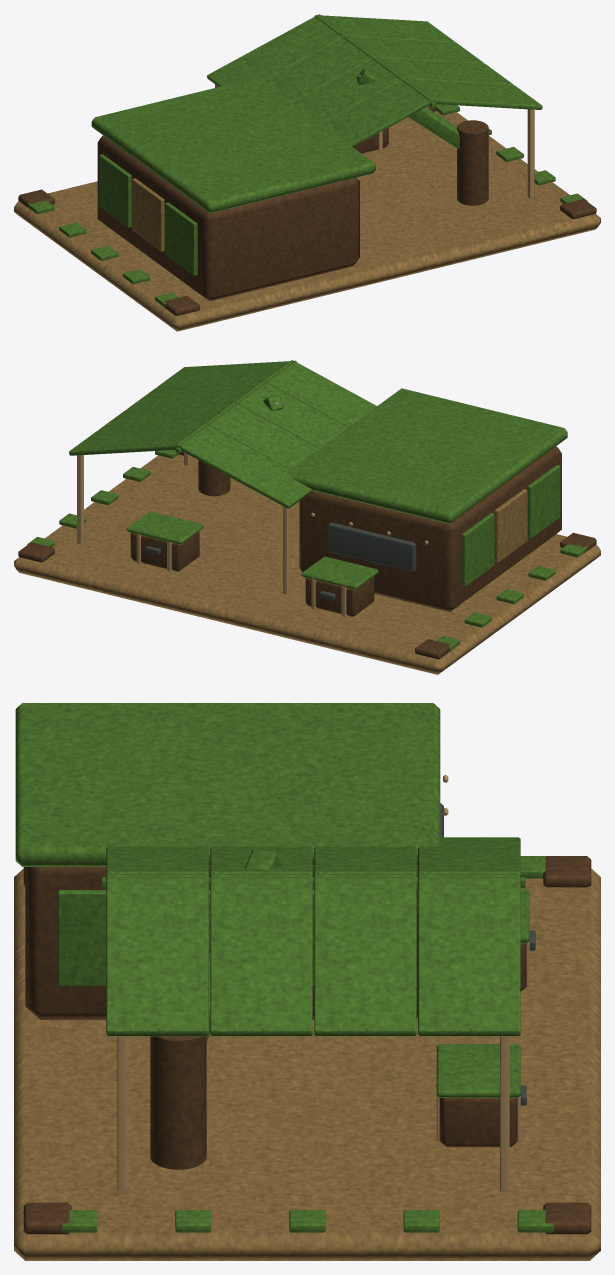
File: vael_atelier_ambulant.gltf
3 renders of one model, top to bottom at view 1: azimuth 30°, elevation 25°; view 2: azimuth 150°, elevation 25°; view 3: azimuth 270°, elevation 25°, orthographic. The views are drawn at different scales.
Visible parts, largest first — view 1: Root.004_Geometry, Arm_0_Geometry; view 2: Root.004_Geometry; view 3: Root.004_Geometry, Arm_0_Geometry.
Boxes of the visible parts, left/top/right/bottom form: Root.004_Geometry: left=14, top=14, right=600, bottom=331; Arm_0_Geometry: left=357, top=68, right=459, bottom=148; Root.004_Geometry: left=14, top=360, right=600, bottom=674; Root.004_Geometry: left=14, top=703, right=600, bottom=1260; Arm_0_Geometry: left=206, top=848, right=281, bottom=1041.
Size of the model in its own units: 5.91 by 1.97 by 3.91.
6 materials, 3 textured.
